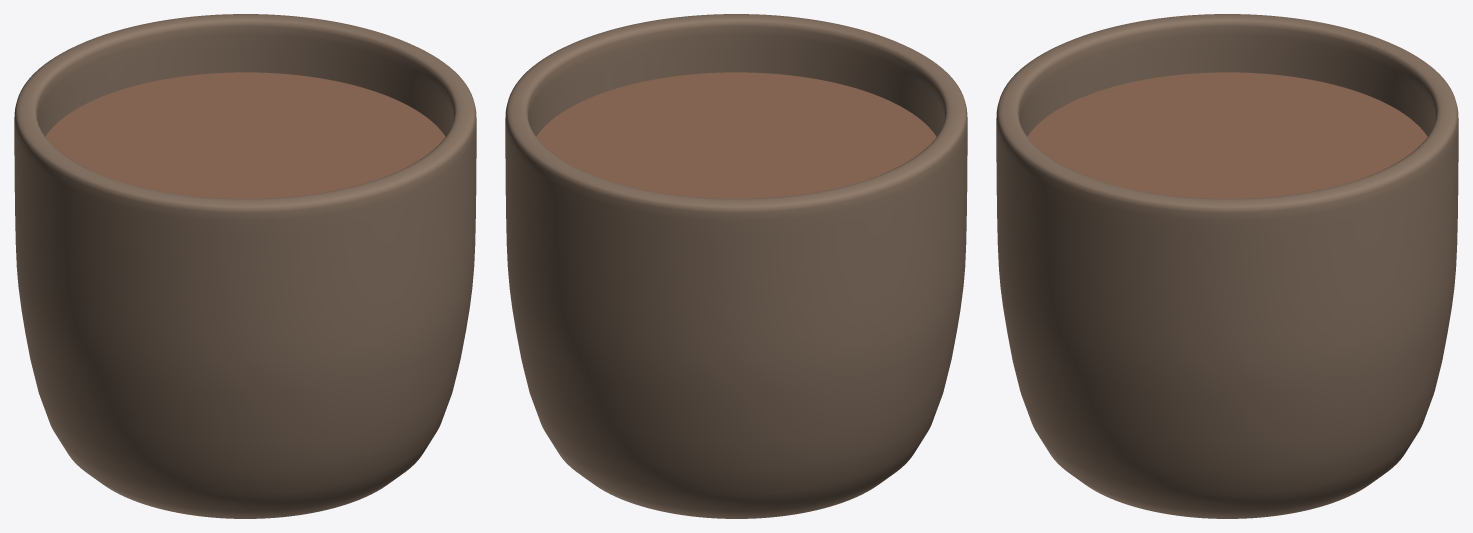
Rendered from basic_brown.glb.
3 renders of one model, left to right at view 1: azimuth 30°, elevation 25°; view 2: azimuth 150°, elevation 25°; view 3: azimuth 270°, elevation 25°, orthographic.
Parts seen in each view (by area): view 1: Circle.002, Circle.001; view 2: Circle.002, Circle.001; view 3: Circle.002, Circle.001.
Part boxes in pixels (box(x1,y1,x2,y2)): Circle.002: box(14, 14, 476, 518); Circle.001: box(45, 72, 445, 198); Circle.002: box(505, 14, 967, 518); Circle.001: box(536, 72, 936, 198); Circle.002: box(996, 14, 1458, 518); Circle.001: box(1027, 72, 1427, 198).
Bounding box in the file's own units: 11.86 × 10.04 × 11.86.
